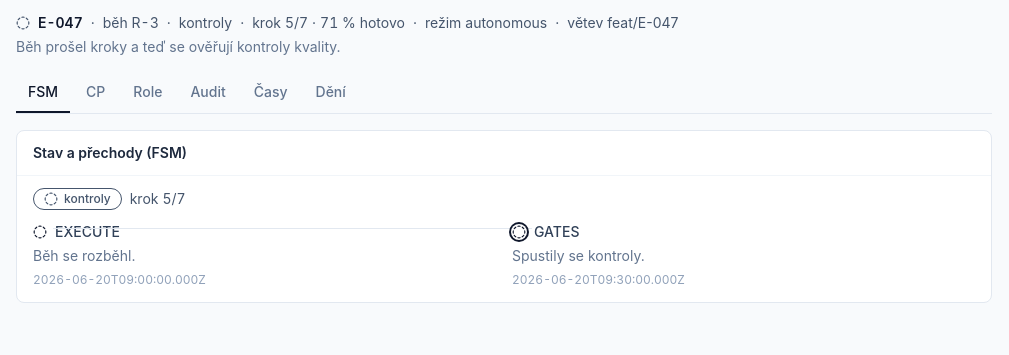
Test: ScreenC — EPIC deep view (v3 run) › Role tab renders all four AgentRolePanels
This screenshot has width=1009, height=355.
Check: the element showing "FSM CP Role Audit Časy Dění" is shown, box [16,73,992,114]
Click the tab "Role" at point(148, 93), box [121,73,174,113]
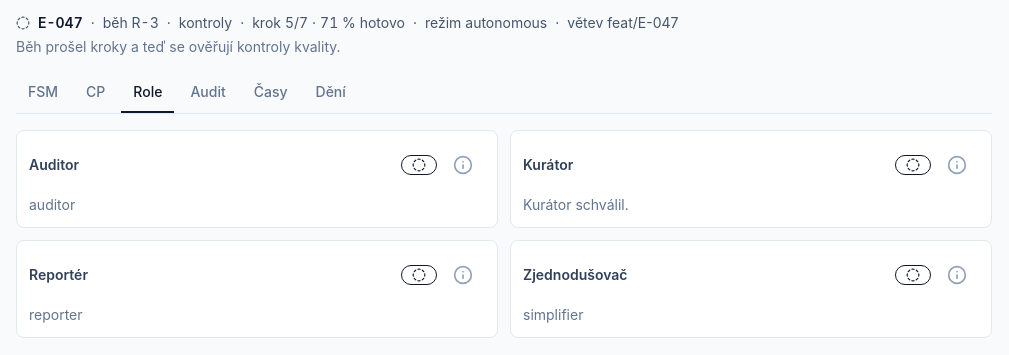
Check: the element that starts with "Auditor" is shown, box [16,130,992,338]
Check: the element showing "Auditor auditor" is shown, box [16,130,498,228]
Check: the element showing "Kurátor Kurátor schválil." is shown, box [510,130,992,228]
